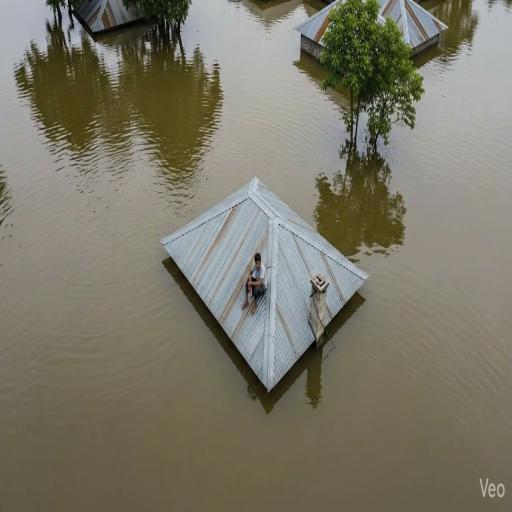human: (236, 240, 271, 317)
